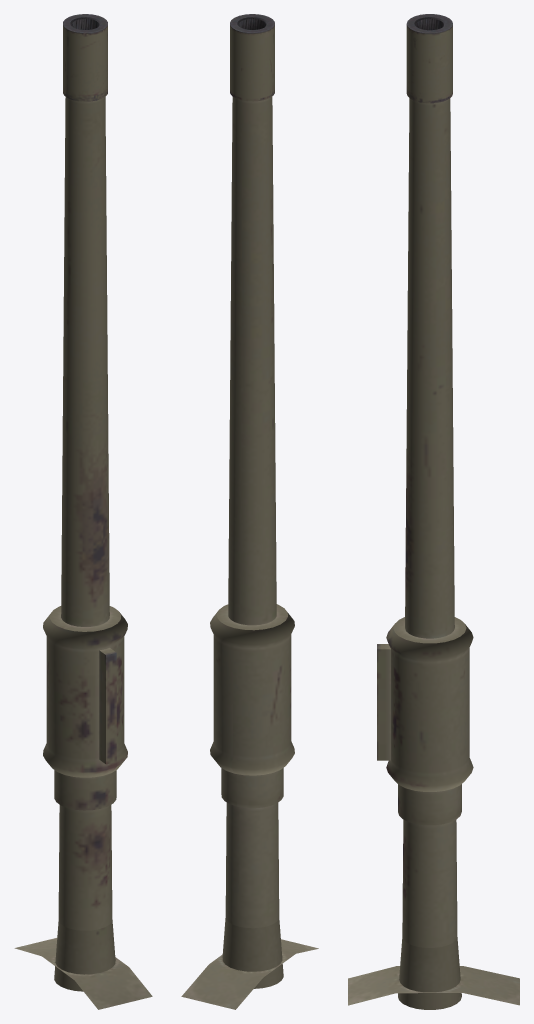
Rendered from Gun_04.glb.
3 views of the same model, side by side, from view 1: azimuth 30°, elevation 25°; view 2: azimuth 150°, elevation 25°; view 3: azimuth 270°, elevation 25° (orthographic). The views are drawn at different scales.
Parts seen in each view (by area): view 1: set_0_group_0; view 2: set_0_group_0; view 3: set_0_group_0.
Part boxes in pixels (bbox=[...]): set_0_group_0: bbox=[14, 14, 152, 1009]; set_0_group_0: bbox=[181, 14, 318, 1009]; set_0_group_0: bbox=[348, 14, 519, 1009].
Bounding box in the file's own units: 0.2548 × 3.17 × 0.5062.
Materials: 1 (1 with a texture image).
